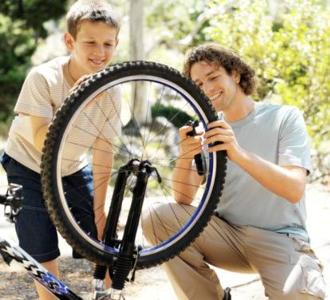person: (142, 44, 329, 300)
